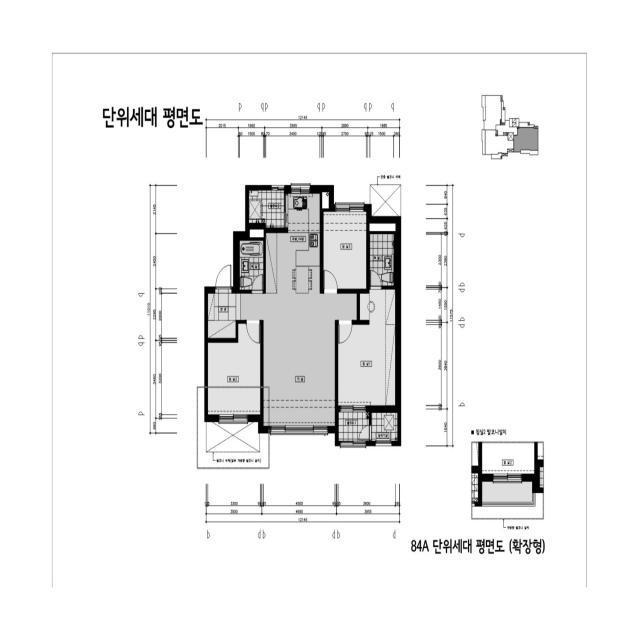space_balconi: (249, 190, 284, 228), (339, 412, 369, 441)
space_bedroom: (338, 290, 395, 405), (208, 324, 260, 415), (323, 212, 366, 289)
space_front: (208, 289, 241, 338)
space_kitchen: (266, 194, 320, 294)
space_living_room: (241, 294, 357, 426)
space_other: (369, 223, 396, 231), (250, 229, 264, 238), (322, 192, 329, 209)
space_outdoor_room: (371, 413, 398, 441)
space_toilet: (370, 234, 394, 285), (240, 241, 263, 290)
